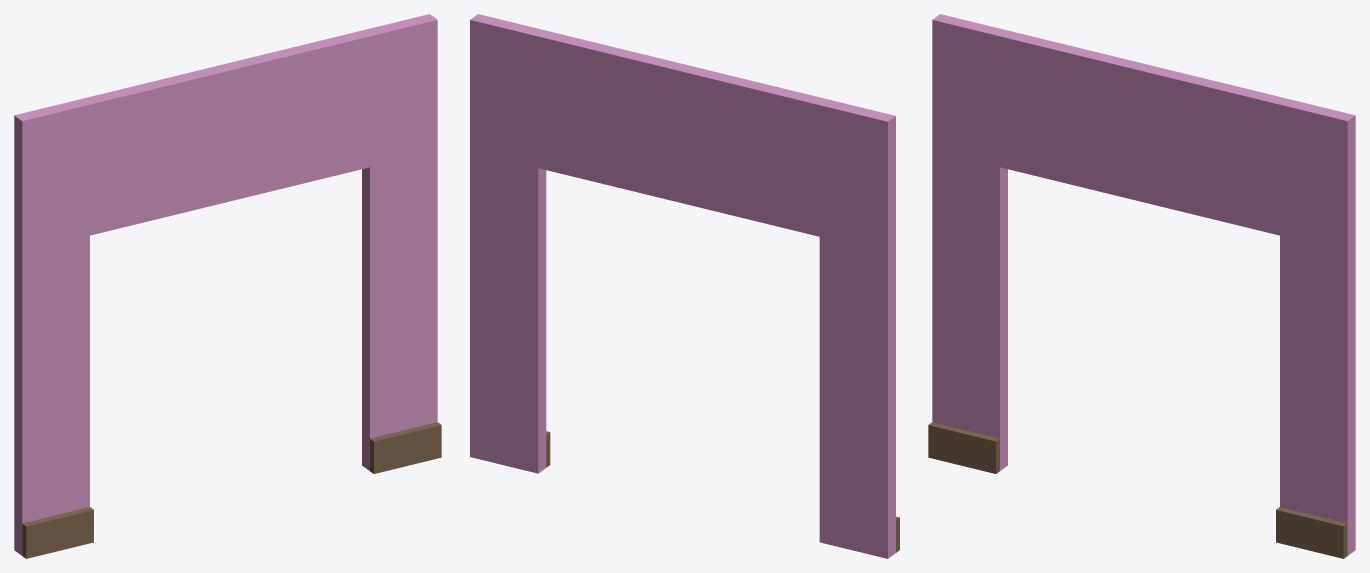
Rendered from Mesh_WallBaseboard_G4.fbx.
3 views of the same model, side by side, from view 1: azimuth 30°, elevation 25°; view 2: azimuth 150°, elevation 25°; view 3: azimuth 330°, elevation 25° (orthographic).
Parts seen in each view (by area): view 1: Mesh_WallBaseboard_G4; view 2: Mesh_WallBaseboard_G4; view 3: Mesh_WallBaseboard_G4.
Boxes of the visible parts, bbox=[...] form: Mesh_WallBaseboard_G4: bbox=[14, 14, 441, 558]; Mesh_WallBaseboard_G4: bbox=[470, 14, 899, 558]; Mesh_WallBaseboard_G4: bbox=[928, 14, 1355, 558].
Bounding box in the file's own units: 3 × 3 × 0.15.
